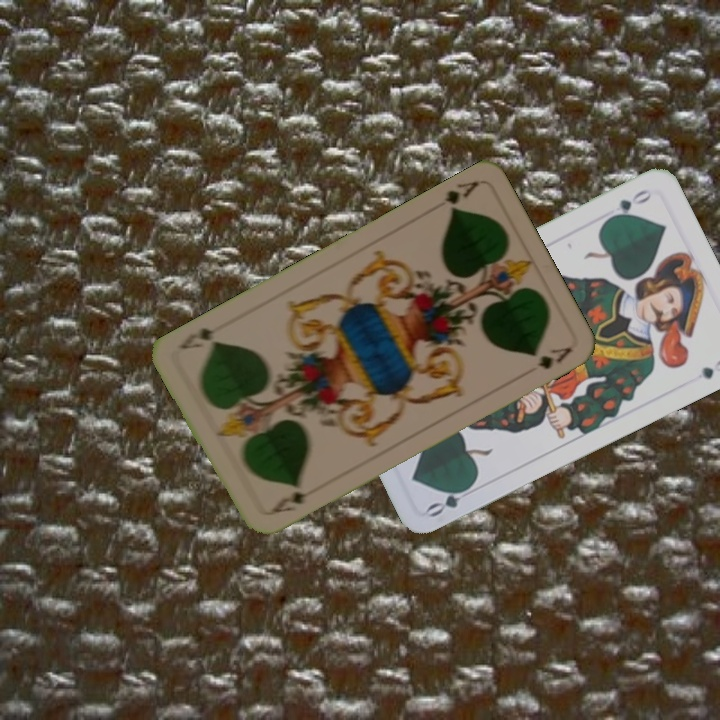GA: (263, 483, 319, 518), (440, 177, 481, 215)
GO: (423, 479, 479, 520), (602, 185, 655, 224)
